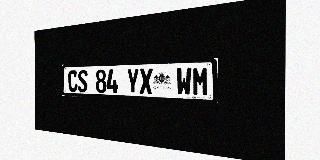4: (107, 69, 118, 93)
8: (96, 69, 106, 93)
C: (68, 70, 77, 92)
M: (192, 67, 209, 96)
S: (78, 70, 88, 92)
W: (176, 67, 192, 96)
X: (139, 68, 153, 94)
Y: (127, 69, 139, 94)
